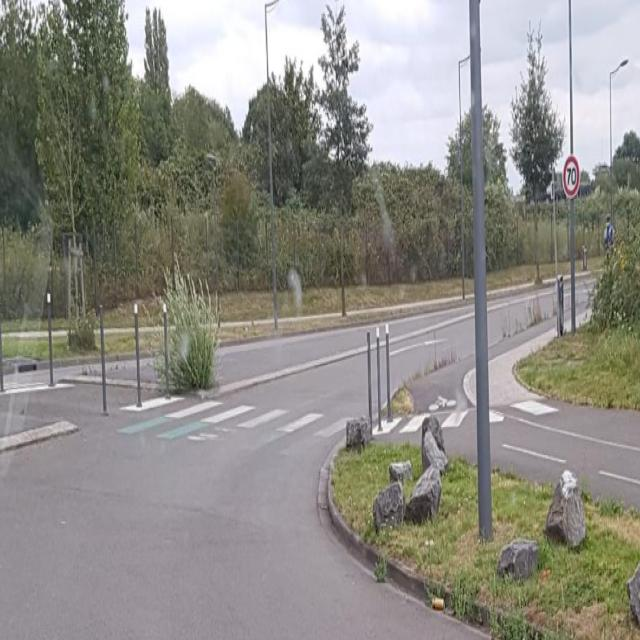speed_70: (563, 156, 580, 196)
